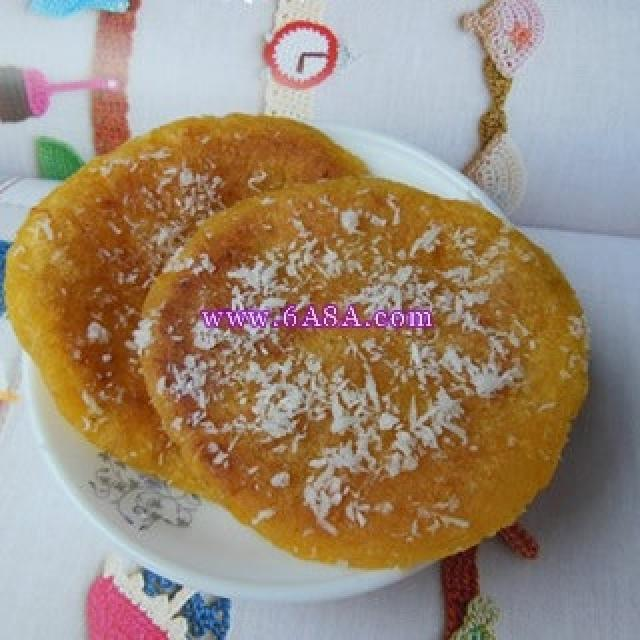炸货点心: (12, 34, 604, 612)
蛋糕甜品: (12, 34, 604, 612)
